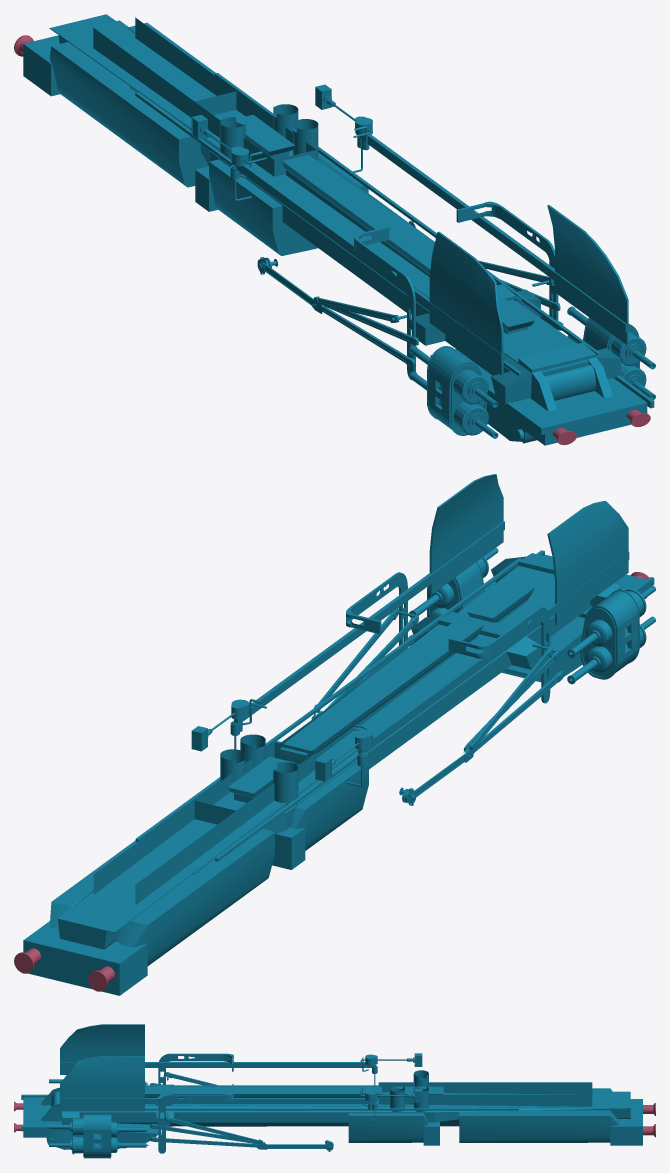
Rendered from TrainBottom.fbx.
The picture shows the model from 3 angles, top to bottom: view 1: azimuth 30°, elevation 25°; view 2: azimuth 150°, elevation 25°; view 3: azimuth 270°, elevation 25°; orthographic projection. The views are drawn at different scales.
Visible parts, largest first — view 1: train1:trainModelforTexture_bottom, train1:trainModelforTexture_pegs; view 2: train1:trainModelforTexture_bottom, train1:trainModelforTexture_pegs; view 3: train1:trainModelforTexture_bottom, train1:trainModelforTexture_pegs.
Part boxes in pixels (bbox=[...]): train1:trainModelforTexture_bottom: bbox=[23, 14, 655, 445]; train1:trainModelforTexture_pegs: bbox=[14, 35, 650, 445]; train1:trainModelforTexture_bottom: bbox=[23, 474, 655, 995]; train1:trainModelforTexture_pegs: bbox=[14, 572, 649, 991]; train1:trainModelforTexture_bottom: bbox=[21, 1024, 642, 1158]; train1:trainModelforTexture_pegs: bbox=[14, 1101, 655, 1137].
Bounding box in the file's own units: 61.1 × 49.14 × 302.
